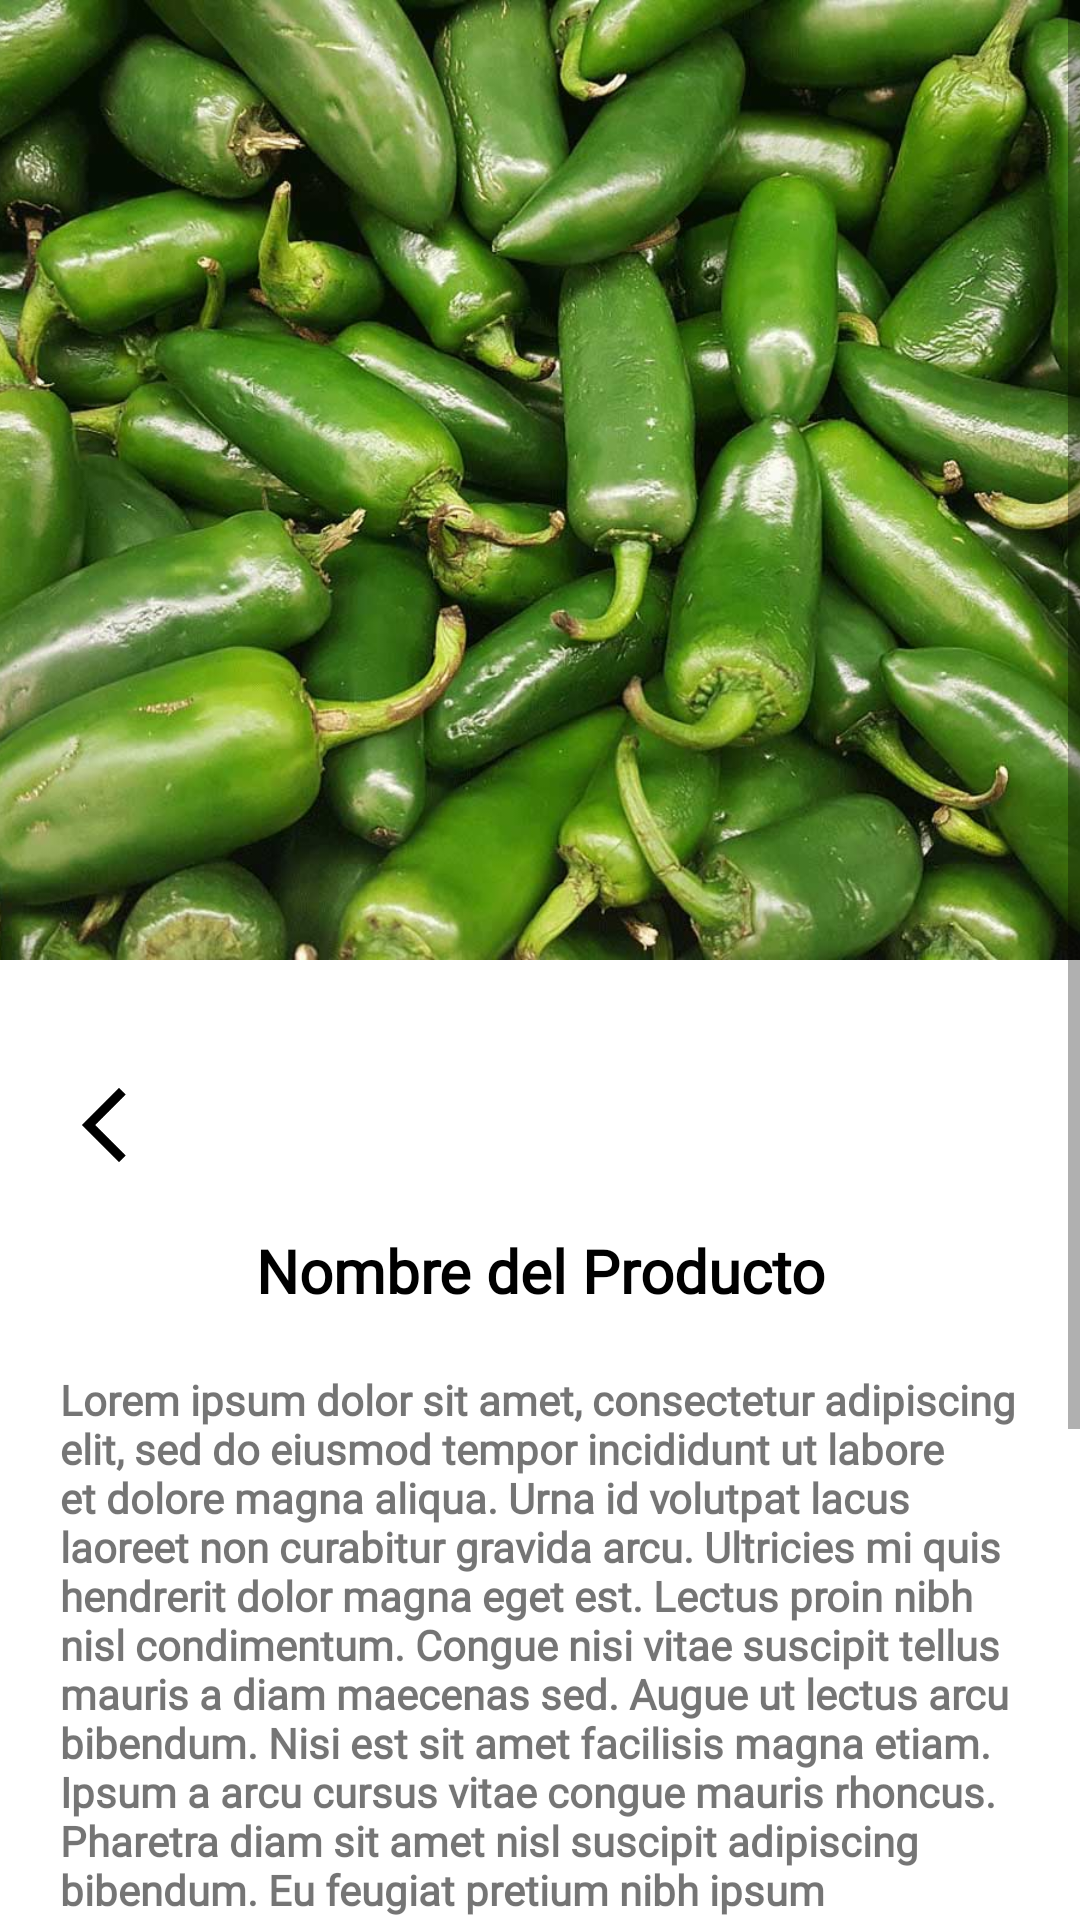

Where icons sit on this 1080 × 1920 app screen, as (x1, y1, x2, y2):
back button: (82, 1088, 126, 1162)
